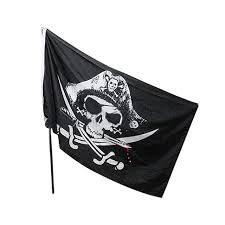Jolly Roger Flag: (39, 28, 199, 202)
